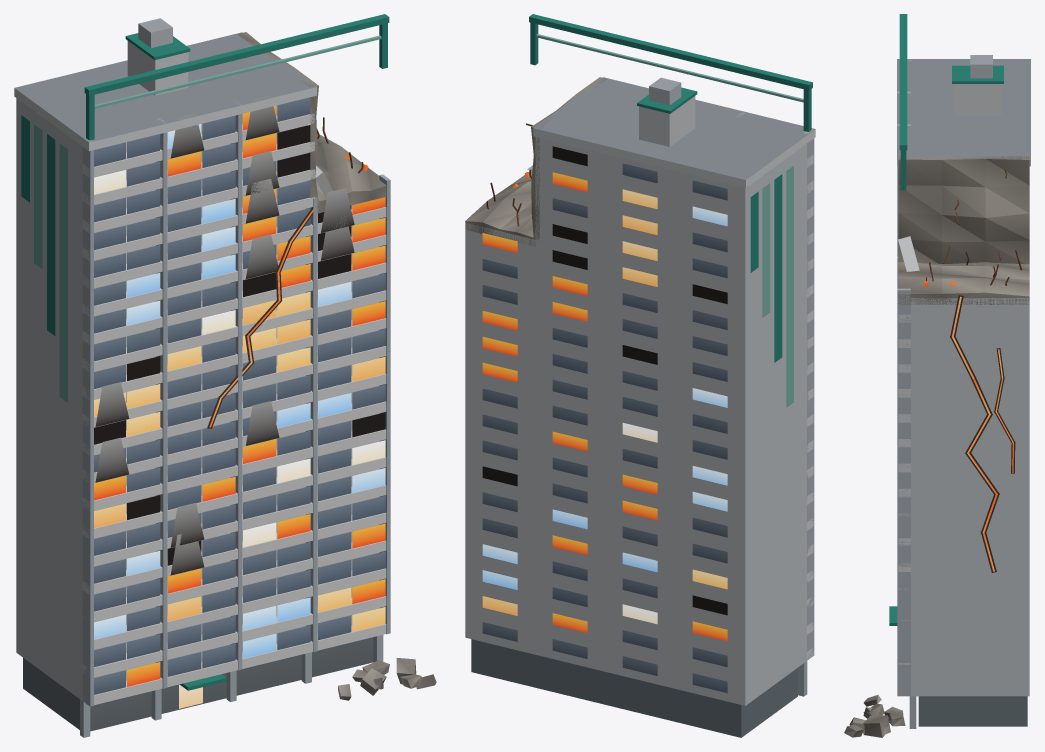
Rendered from bld_apt_B_damaged.meshopt.glb.
The picture shows the model from 3 angles, left to right: view 1: azimuth 30°, elevation 25°; view 2: azimuth 150°, elevation 25°; view 3: azimuth 270°, elevation 25°; orthographic projection. The views are drawn at different scales.
Visible parts, largest first — view 1: bld_apt_B_damaged; view 2: bld_apt_B_damaged; view 3: bld_apt_B_damaged.
Boxes of the visible parts, <box> form: bld_apt_B_damaged: <box>14,14,436,737</box>; bld_apt_B_damaged: <box>465,14,815,737</box>; bld_apt_B_damaged: <box>844,14,1030,737</box>.
Size of the model in its own units: 35.25 by 69.08 by 19.73.
